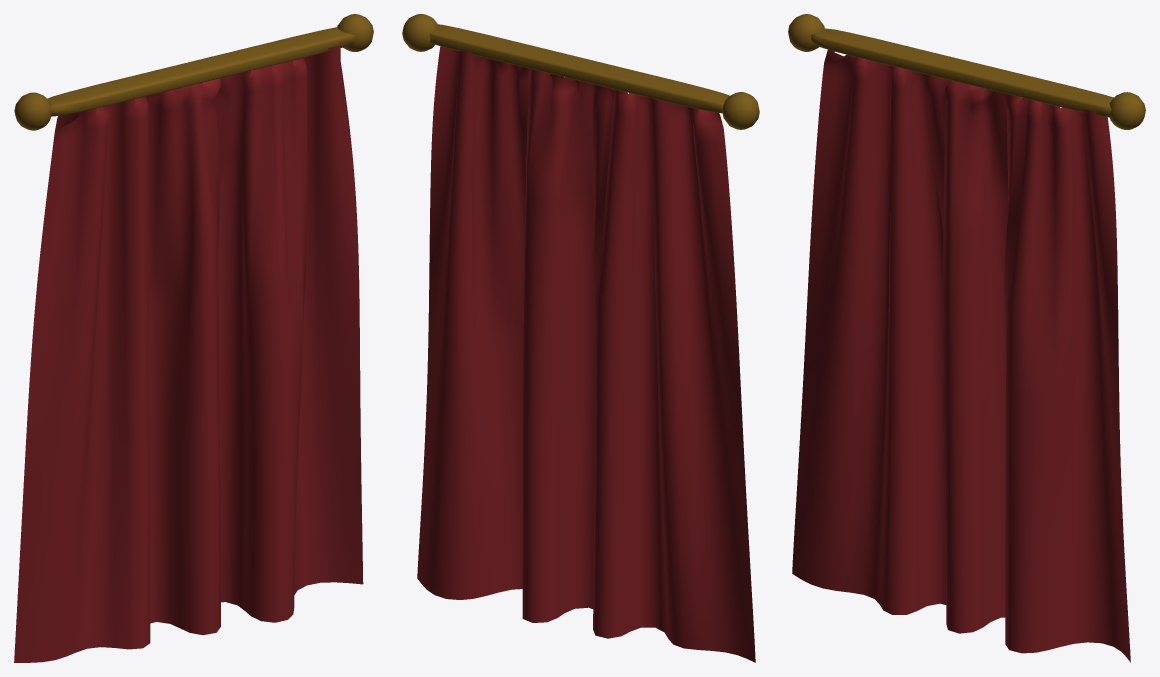
The model's file is finalCurtains.fbx.
The picture shows the model from 3 angles, left to right: view 1: azimuth 30°, elevation 25°; view 2: azimuth 150°, elevation 25°; view 3: azimuth 330°, elevation 25°; orthographic projection.
Visible parts, largest first — view 1: Grid, Sphere; view 2: Grid, Sphere; view 3: Grid, Sphere.
Part boxes in pixels (x1,y1,x2,y2): Grid: (14,45,363,662); Sphere: (14,14,373,130); Grid: (417,46,755,662); Sphere: (402,14,759,129); Grid: (792,49,1130,662); Sphere: (788,14,1145,129).
Bounding box in the file's own units: 135 × 207 × 23.03.
